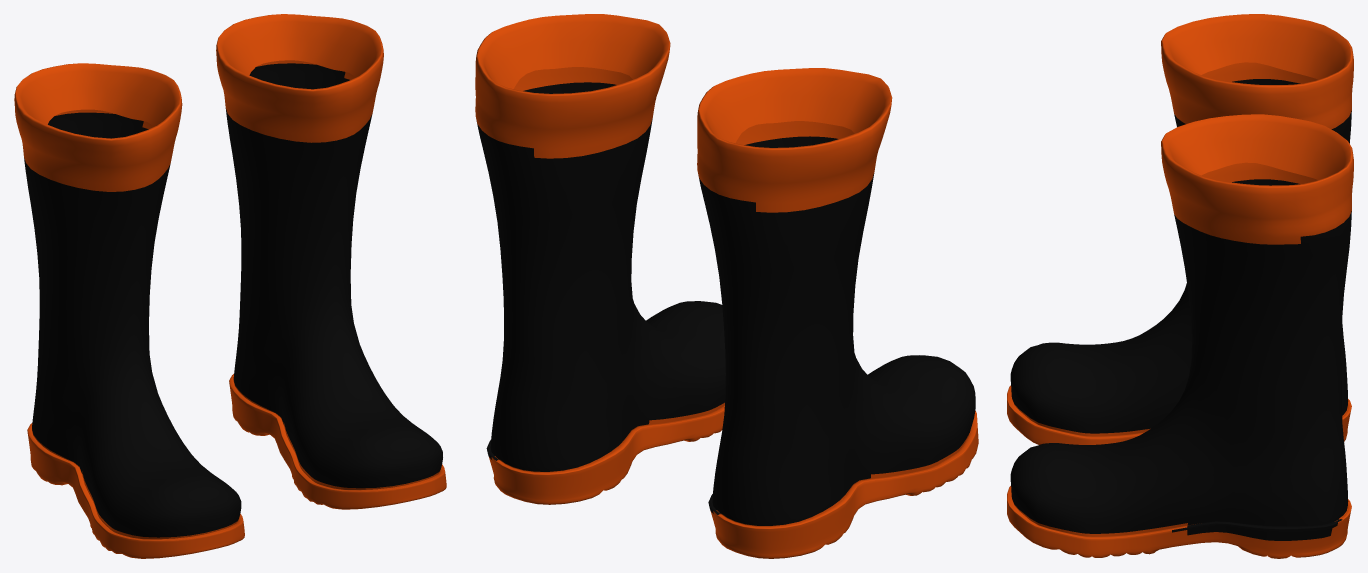
The model's file is 消防鞋.FBX.
3 views of the same model, side by side, from view 1: azimuth 30°, elevation 25°; view 2: azimuth 150°, elevation 25°; view 3: azimuth 270°, elevation 25° (orthographic). The views are drawn at different scales.
Parts seen in each view (by area): view 1: pp0301, pp0297; view 2: pp0301, pp0297; view 3: pp0297, pp0301.
Part boxes in pixels (box(x1,y1,x2,y2)): pp0301: box(14, 63, 244, 558); pp0297: box(216, 14, 446, 509); pp0301: box(697, 68, 978, 558); pp0297: box(475, 14, 725, 504); pp0297: box(1007, 114, 1353, 558); pp0301: box(1007, 14, 1353, 444).
Bounding box in the file's own units: 177 × 183 × 149.
